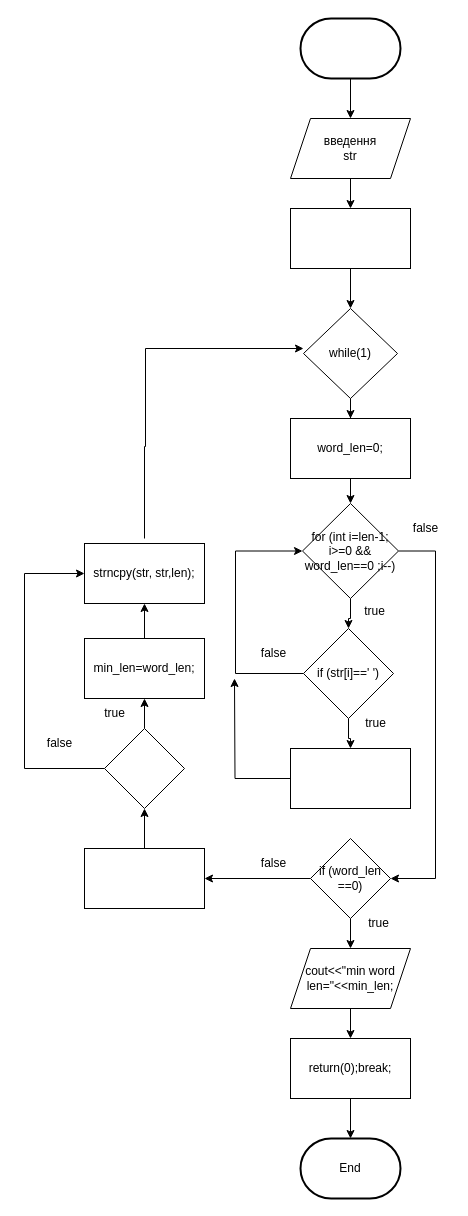
This 468x1216 diagram has some shape labels left out. The centre of each missing label's shape, as x and y in pixels:
"if (word_len <min_len)" goes at point 144,768.
"int len=strlen(str);" goes at point 350,238.
"len=len-word_len-1;" goes at point 144,878.
"Start" goes at point 350,48.
"word_len=len-i-1;" goes at point 350,778.
